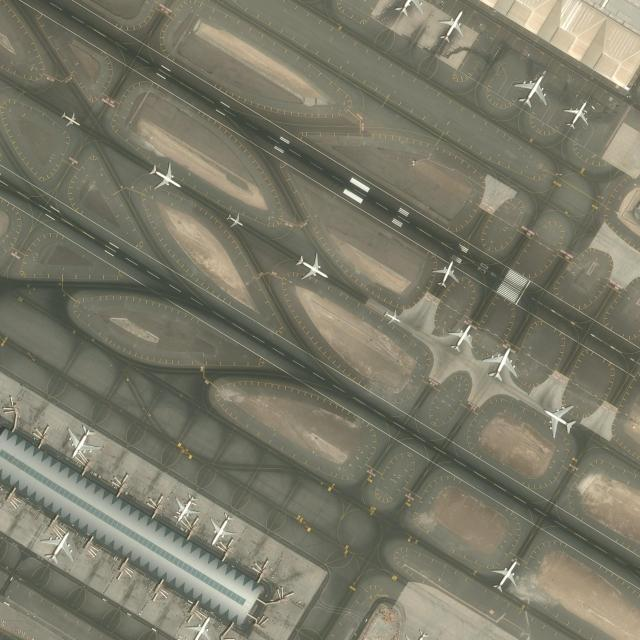1: (185, 613, 215, 639), (392, 0, 423, 18), (401, 628, 431, 640)
aircraft: (481, 344, 519, 380), (514, 71, 548, 109), (41, 526, 74, 564), (65, 424, 98, 460), (542, 404, 578, 436), (437, 6, 467, 44), (294, 252, 328, 284), (145, 162, 182, 191), (490, 559, 522, 592), (445, 322, 477, 354), (206, 513, 235, 547), (171, 494, 201, 524), (431, 260, 459, 289), (565, 98, 590, 130), (225, 210, 245, 230), (60, 110, 80, 128), (383, 310, 402, 326)
